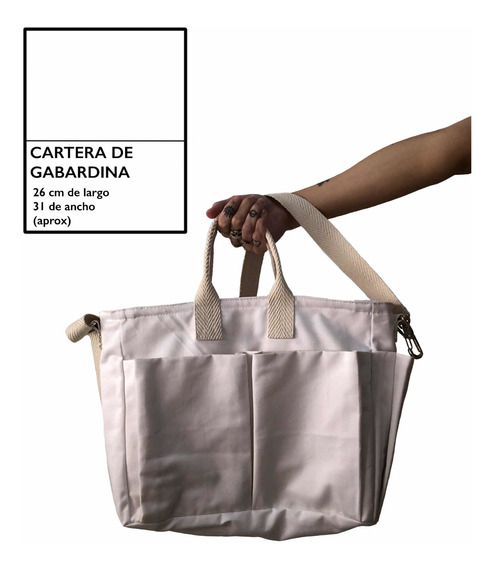cartera: (63, 190, 426, 542)
